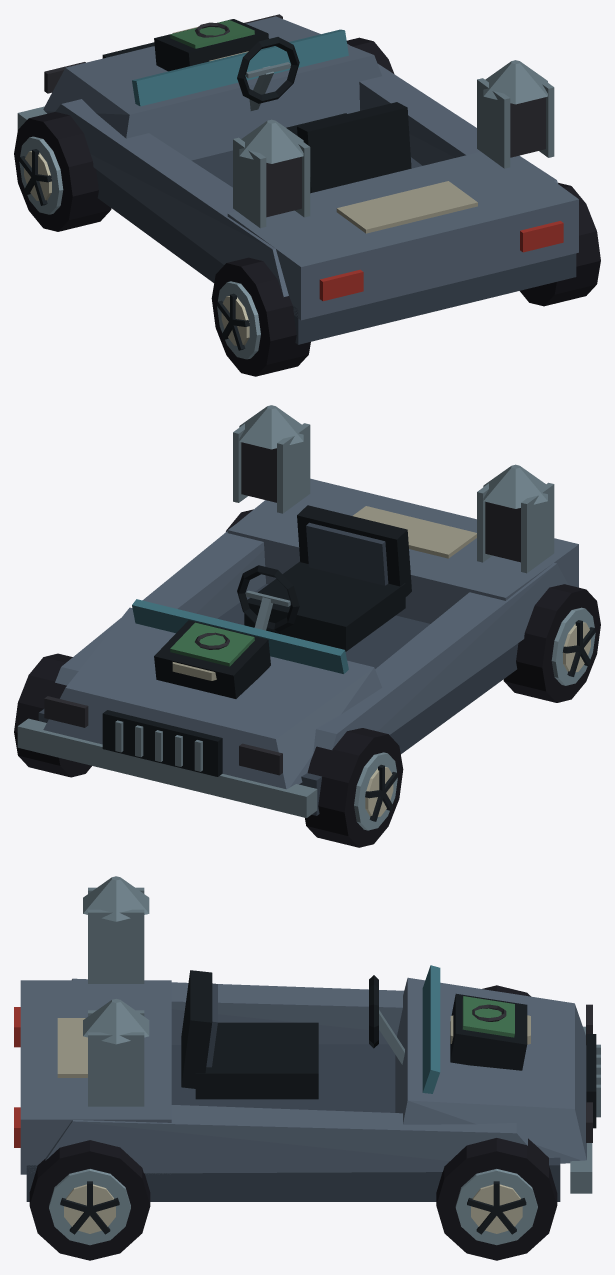
The model's file is kart.glb.
3 renders of one model, top to bottom at view 1: azimuth 30°, elevation 25°; view 2: azimuth 150°, elevation 25°; view 3: azimuth 270°, elevation 25°, orthographic. The views are drawn at different scales.
Visible parts, largest first — view 1: identity-sedan-sedan-road-car-body, identity-sedan-motif-lanterns, identity-sedan-driver-cockpit, wheel-front-left, wheel-rear-left, identity-sedan-motif-scanner, wheel-rear-right, wheel-front-right; view 2: identity-sedan-sedan-road-car-body, identity-sedan-driver-cockpit, identity-sedan-motif-lanterns, wheel-front-left, wheel-rear-left, identity-sedan-motif-scanner, wheel-front-right; view 3: identity-sedan-sedan-road-car-body, identity-sedan-driver-cockpit, identity-sedan-motif-lanterns, wheel-front-right, wheel-rear-right, identity-sedan-motif-scanner.
Part boxes in pixels (<box>): identity-sedan-sedan-road-car-body: <box>17,14,578,344</box>; identity-sedan-motif-lanterns: <box>233,60,554,228</box>; identity-sedan-driver-cockpit: <box>237,37,411,193</box>; wheel-front-left: <box>14,112,111,231</box>; wheel-rear-left: <box>211,257,310,376</box>; identity-sedan-motif-scanner: <box>154,19,268,71</box>; wheel-rear-right: <box>520,182,600,306</box>; wheel-front-right: <box>346,37,394,73</box>; identity-sedan-sedan-road-car-body: <box>17,478,578,817</box>; identity-sedan-driver-cockpit: <box>237,505,411,651</box>; identity-sedan-motif-lanterns: <box>233,405,554,573</box>; wheel-front-left: <box>305,728,403,847</box>; wheel-rear-left: <box>503,584,600,702</box>; identity-sedan-motif-scanner: <box>154,620,270,698</box>; wheel-front-right: <box>14,653,91,777</box>; identity-sedan-sedan-road-car-body: <box>14,965,600,1201</box>; identity-sedan-driver-cockpit: <box>181,970,404,1099</box>; identity-sedan-motif-lanterns: <box>83,876,149,1106</box>; wheel-front-right: <box>436,1138,557,1260</box>; wheel-rear-right: <box>29,1140,150,1260</box>; identity-sedan-motif-scanner: <box>450,993,527,1070</box>.
Size of the model in its own units: 2.07 by 1.3 by 2.92.
